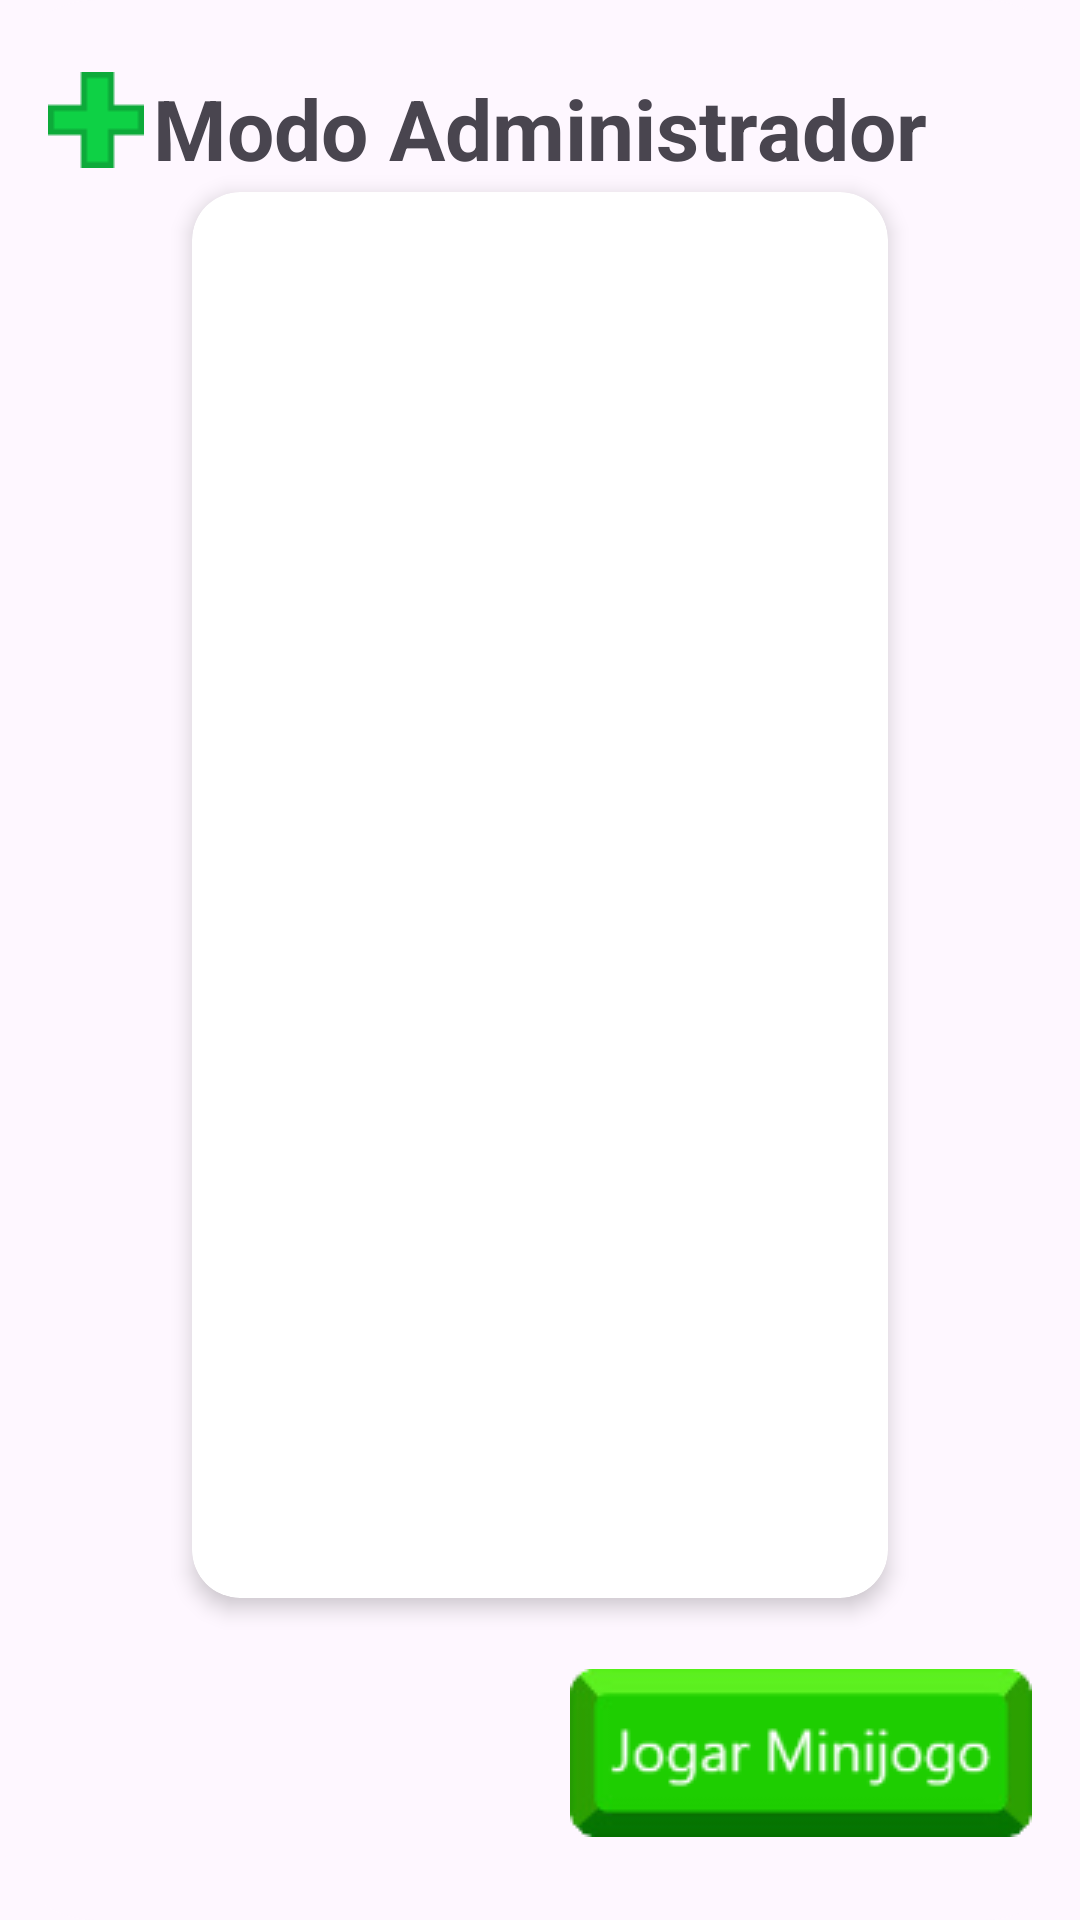

Icons on this 1080px×1920px Android screen, each with the point to tap as (x=x, y=y):
Adicionar nova tarefa: (x=96, y=120)
